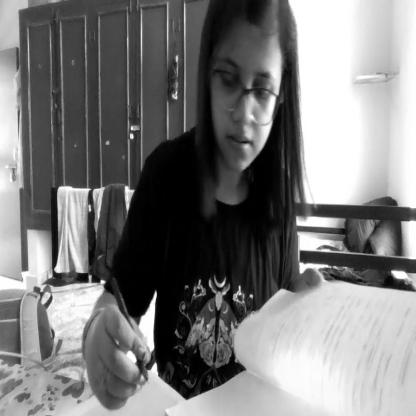Normal: (204, 0, 293, 184)
